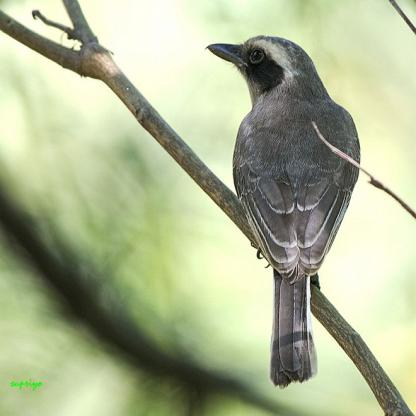Burung: (206, 36, 359, 387)
